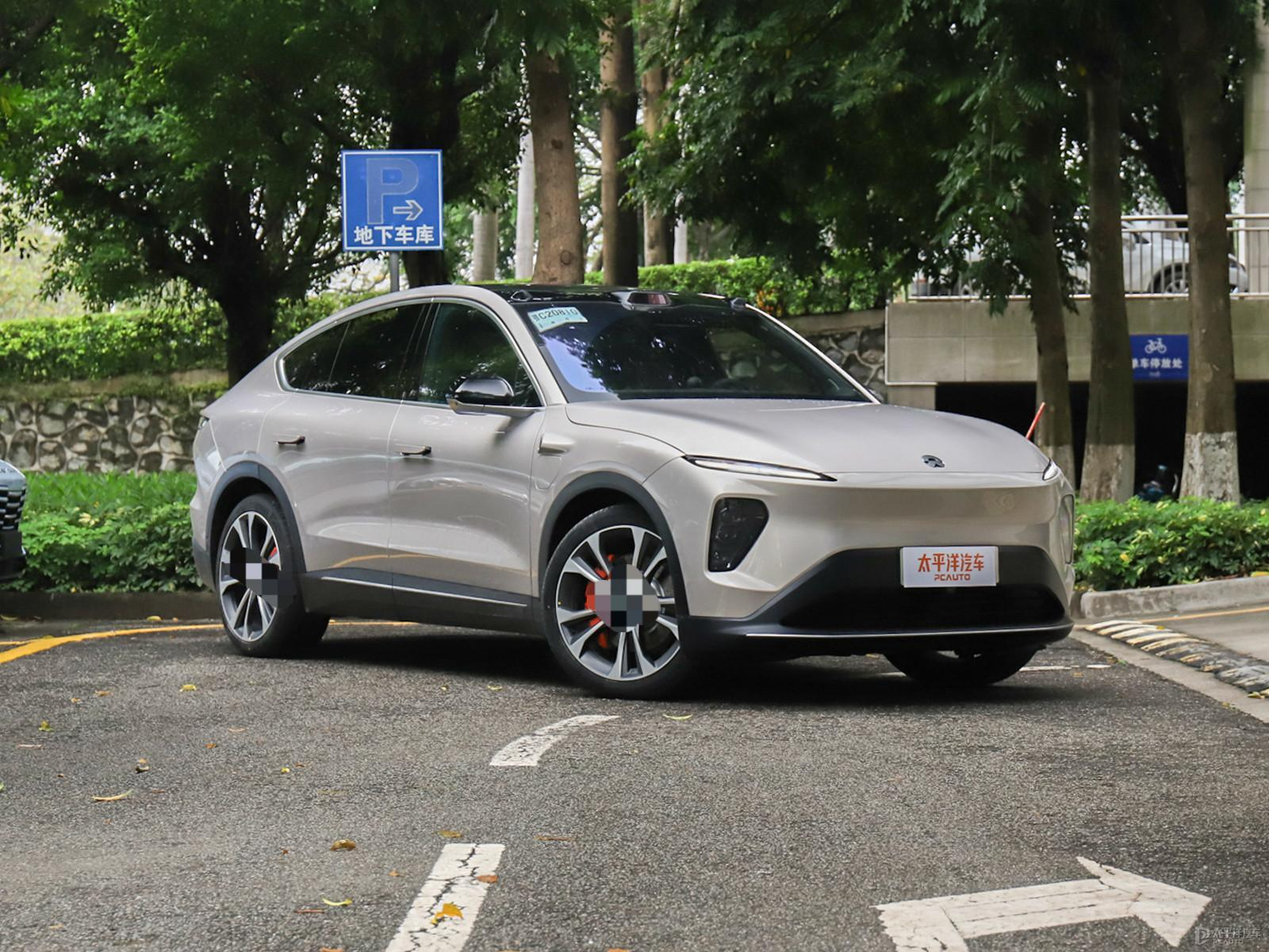NIO: (922, 454, 945, 468)
